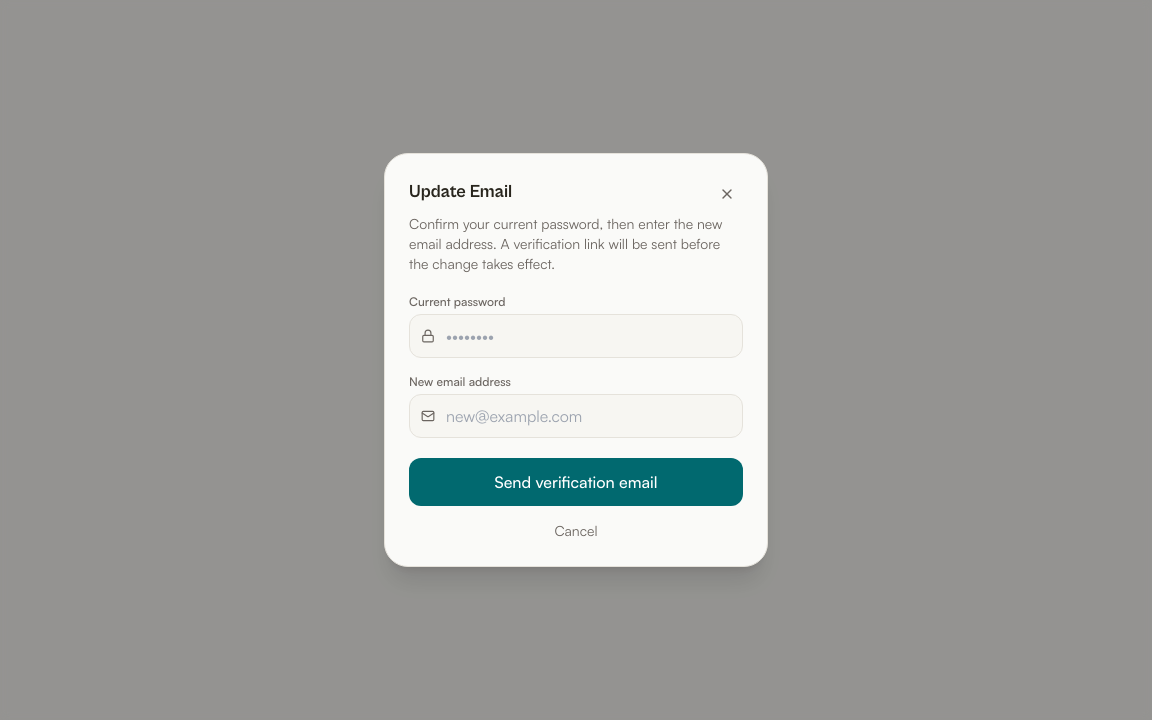
EmailUpdateModal › shows inline error when new email equals current email
The image size is (1152, 720).
Type "secret123" into the password field labelled "Current password".
click(576, 336); type("secret123")  # box [409,314,743,358]
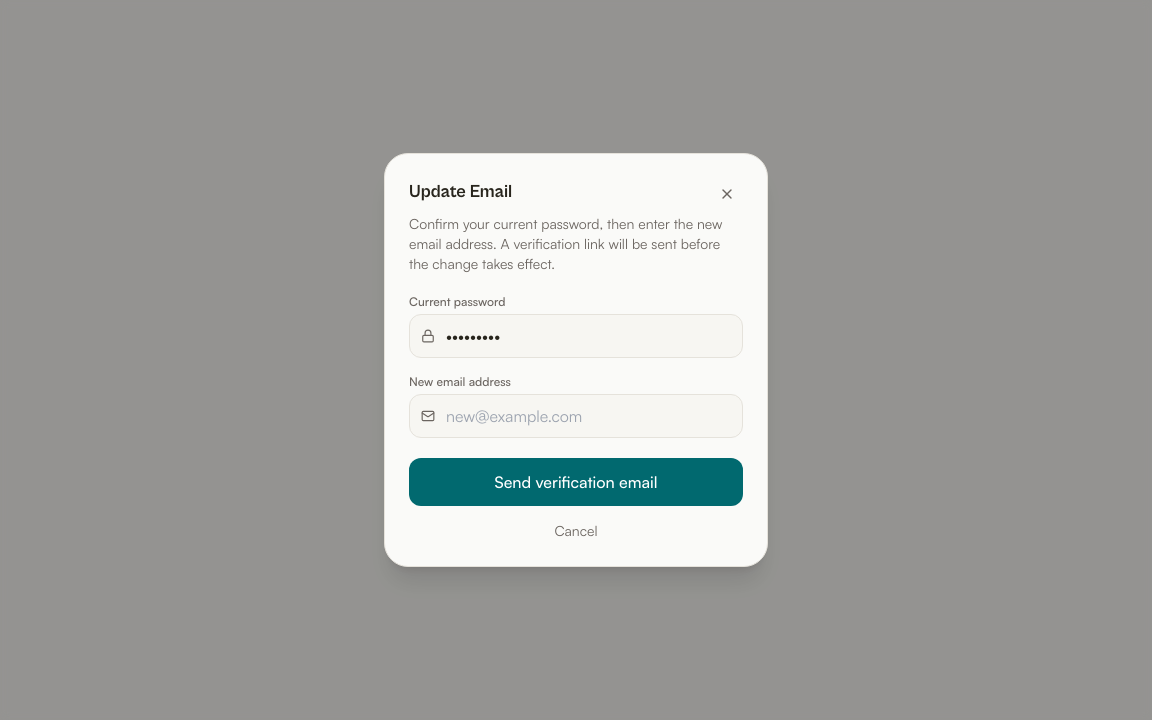
Type "admin@tatillife.com" into the field labelled "New email address".
click(576, 416); type("admin@tatillife.com")  # box [409,394,743,438]
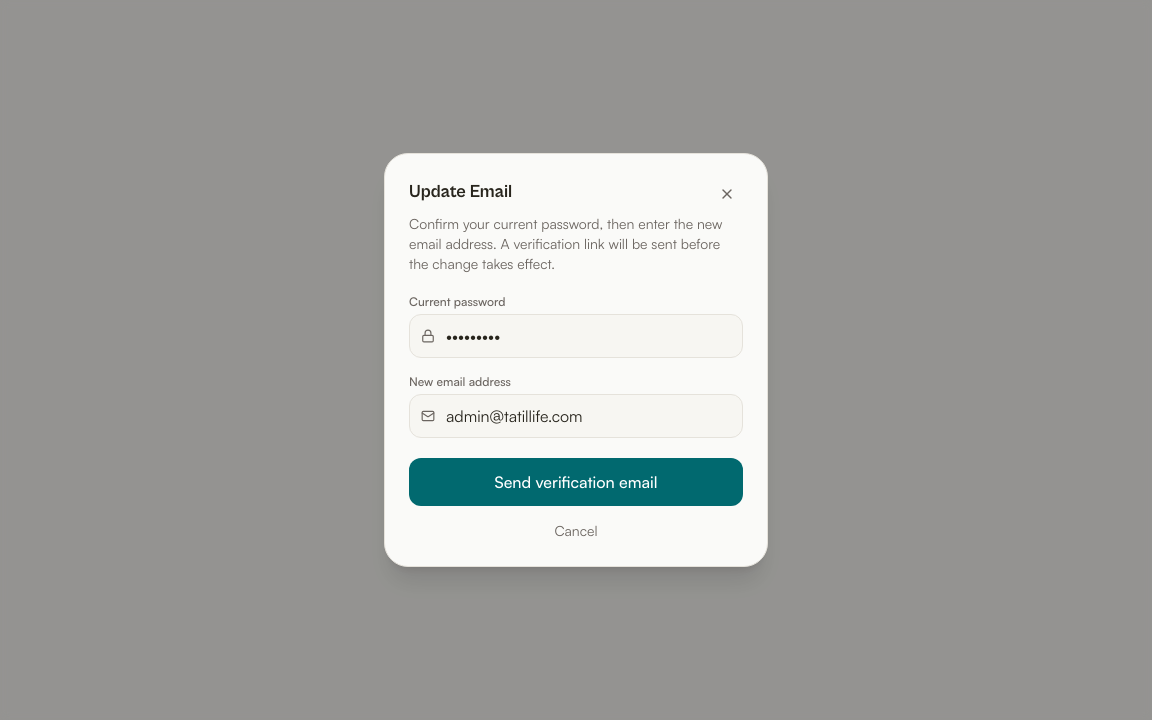
Click the button "Send verification email".
click(576, 482)  # box [409,458,743,506]
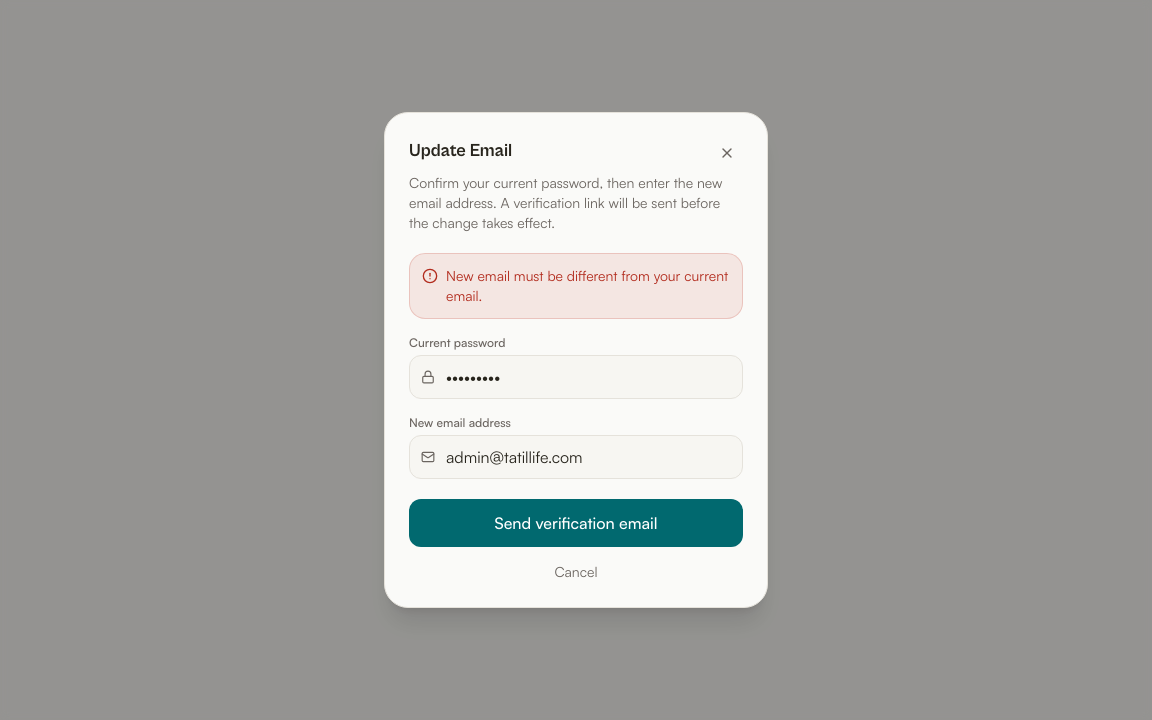
Expected: the message shows "different from your current email", [446,267,728,304]
